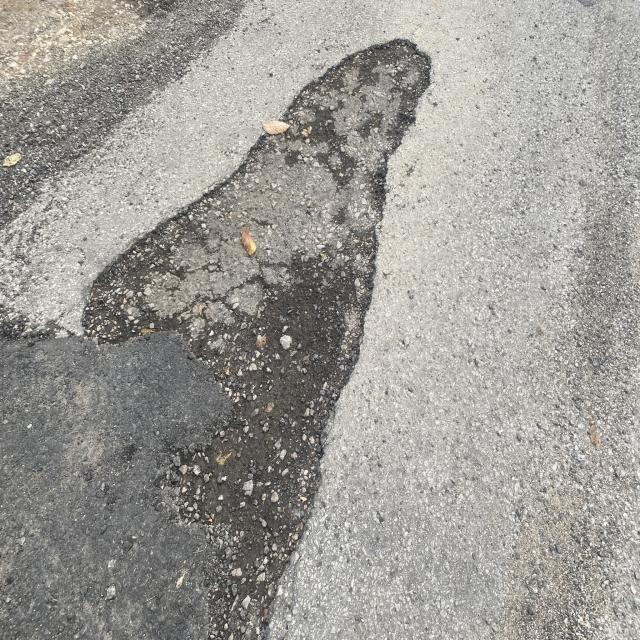pothole: (72, 43, 477, 640)
